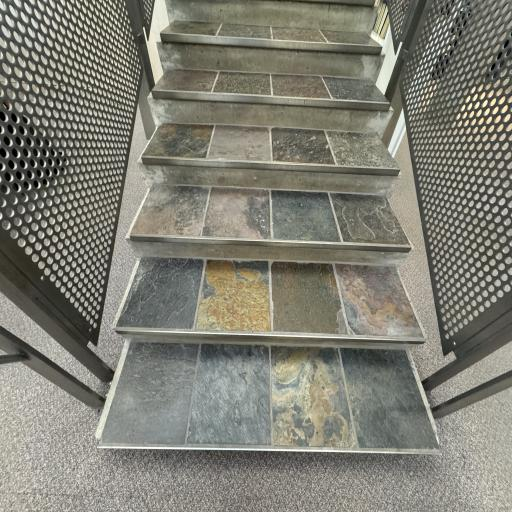Stairs: (97, 0, 438, 453), (97, 341, 439, 454), (114, 257, 424, 349), (127, 183, 411, 265), (140, 109, 400, 197), (159, 0, 383, 81), (150, 69, 393, 137)
